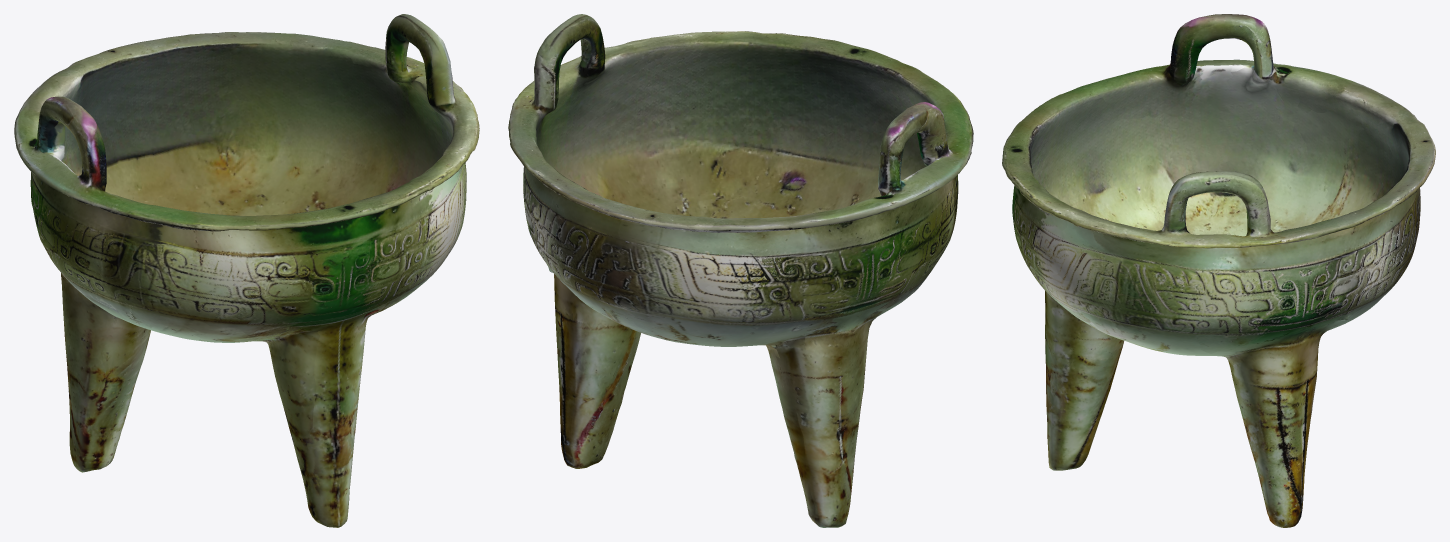
3 views of the same model, side by side, from view 1: azimuth 30°, elevation 25°; view 2: azimuth 150°, elevation 25°; view 3: azimuth 270°, elevation 25° (orthographic). The views are drawn at different scales.
Parts seen in each view (by area): view 1: mvadapter_node_view6-9_texture_mesh_Hi3DGen_012_2_0630; view 2: mvadapter_node_view6-9_texture_mesh_Hi3DGen_012_2_0630; view 3: mvadapter_node_view6-9_texture_mesh_Hi3DGen_012_2_0630.
Part boxes in pixels (x1=…): mvadapter_node_view6-9_texture_mesh_Hi3DGen_012_2_0630: x1=14, y1=14, x2=479, y2=527; mvadapter_node_view6-9_texture_mesh_Hi3DGen_012_2_0630: x1=508, y1=14, x2=973, y2=527; mvadapter_node_view6-9_texture_mesh_Hi3DGen_012_2_0630: x1=1002, y1=14, x2=1435, y2=527.
Size of the model in its own units: 1 by 0.9453 by 0.9896.
1 material, 1 textured.
